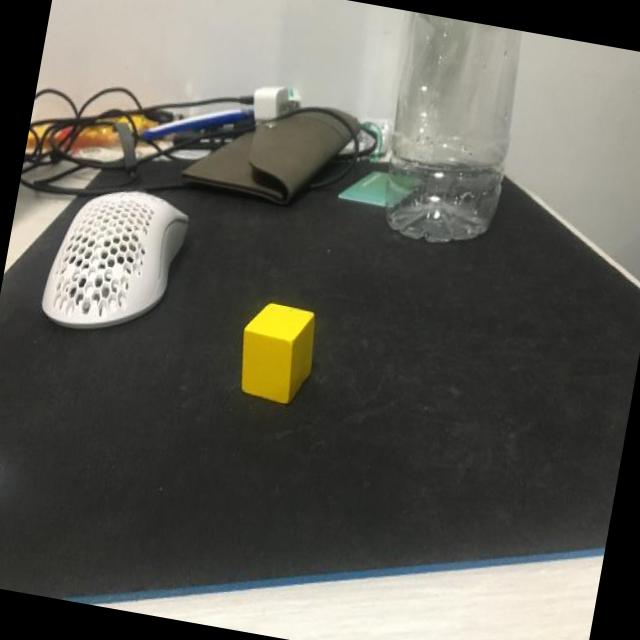yellow: (232, 299, 322, 408)
